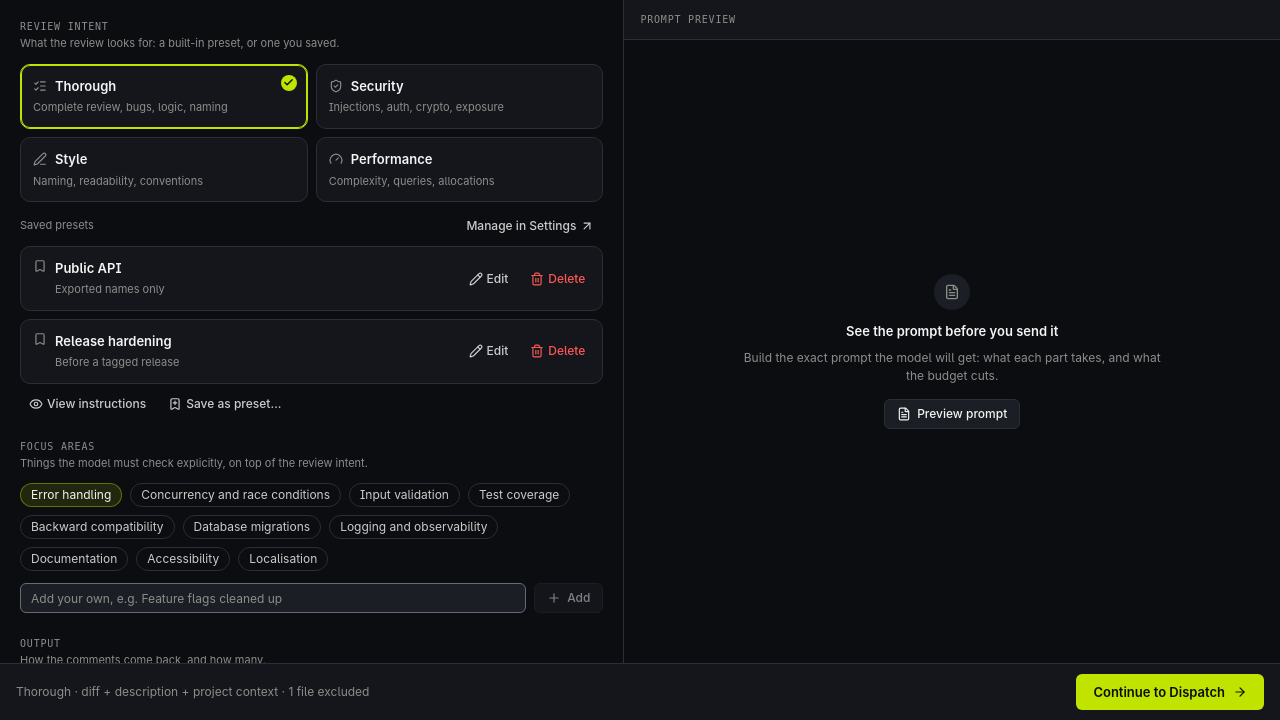
Test: BriefStage — saved presets › puts back the settings a saved preset replaced when its toast is undone
Click the button "Release hardening Before a tagged release": click(113, 341) [21, 320, 456, 383]
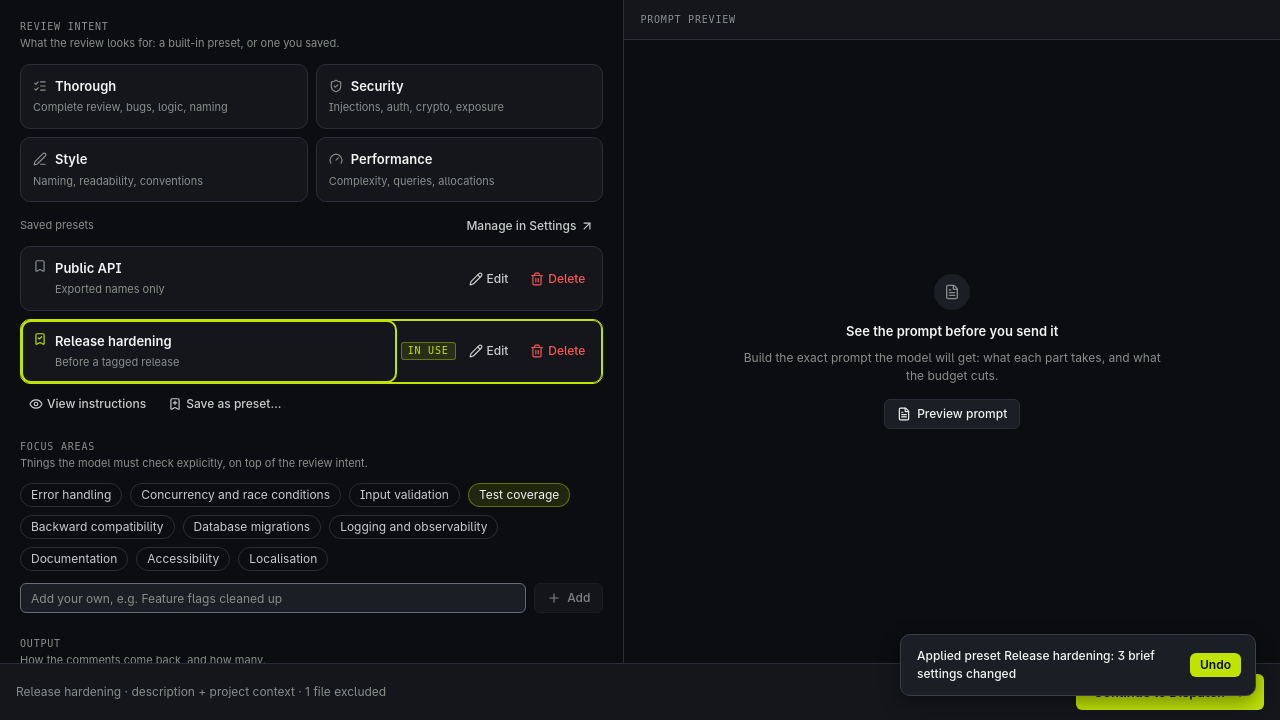
Click the button "Undo": click(1216, 665) [1190, 653, 1241, 677]
(page scrolled)
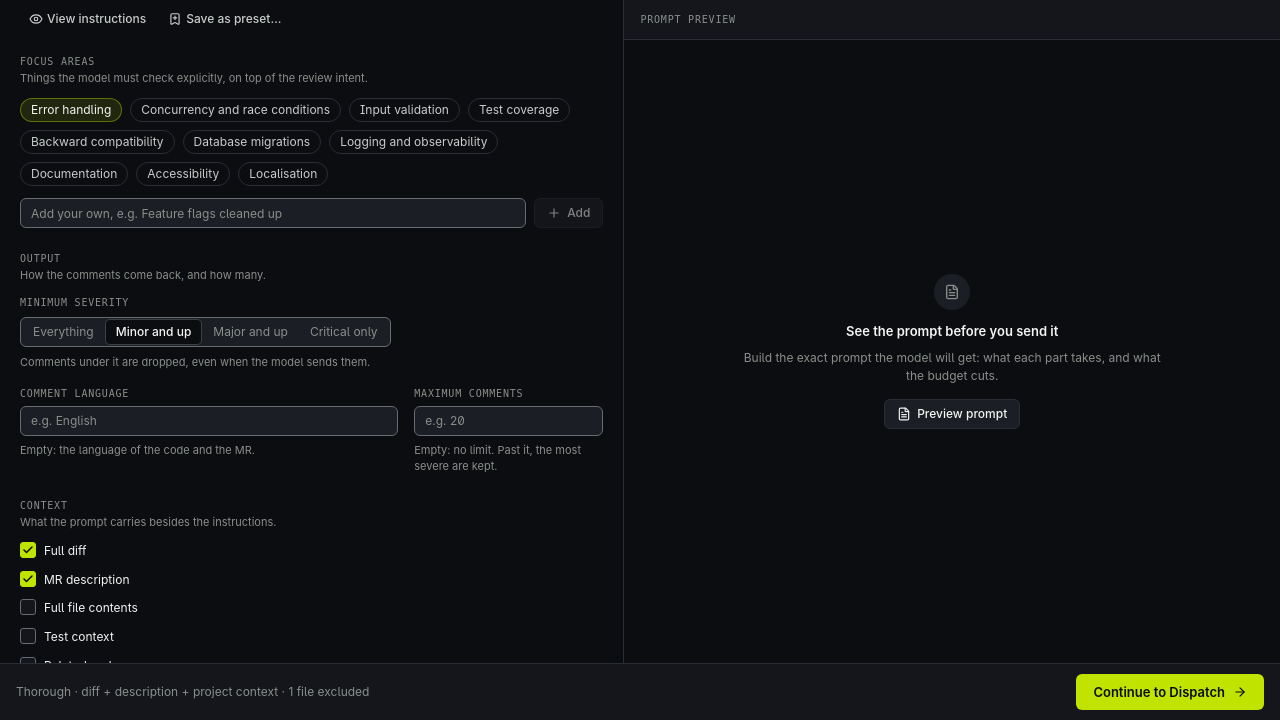
Check: the radio button labelled "Minor and up" is shown, box [106, 320, 201, 344]
